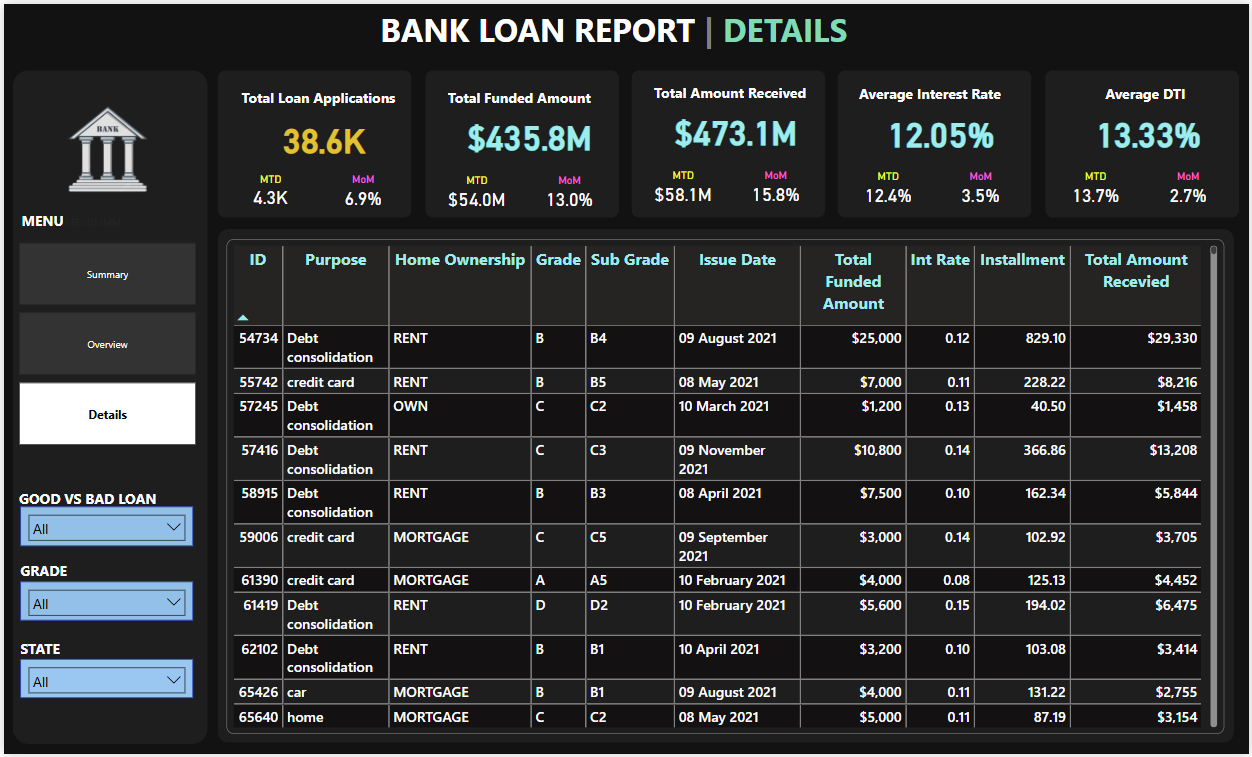

What the dashboard file says about the page in this screenshot:
{"tool":"powerbi","page":{"name":"Details","canvas":[1660,1000],"ordinal":2},"visuals":[{"type":"textbox","box":[496.7,0,798.3,76.7],"z":0},{"type":"card","fields":{"Values":["bankloan.Total Amount Recevied"]},"box":[886.9,106.2,178.3,125.8],"z":0,"group":"g5"},{"type":"card","fields":{"Values":["bankloan.Avg DTI"]},"box":[1437,106.7,178.3,125.8],"z":0,"group":"g7"},{"type":"card","fields":{"Values":["bankloan.Avg Interest Rate"]},"box":[1159.9,107.2,178.3,125.8],"z":0,"group":"g6"},{"type":"card","fields":{"Values":["bankloan.Total Funded Amount"]},"box":[611,113,178.3,125.8],"z":0,"group":"g4"},{"type":"card","fields":{"Values":["bankloan.Total Loan Application"]},"box":[345.4,115.4,160,125.2],"z":0,"group":"g3"},{"type":"slicer","fields":{"Values":["bankloan.grade"]},"box":[22.4,769.3,230.8,52.3],"z":0,"group":"g1"},{"type":"textbox","box":[862.4,101,225.4,37.7],"z":1000,"group":"g5"},{"type":"textbox","box":[1412.5,101.5,225.4,37.7],"z":1000,"group":"g7"},{"type":"textbox","box":[1135.4,102,225.4,37.7],"z":1000,"group":"g6"},{"type":"textbox","box":[311.6,107.7,225.4,37.6],"z":1000,"group":"g3"},{"type":"textbox","box":[586.5,107.8,225.4,37.7],"z":1000,"group":"g4"},{"type":"shape","box":[285,300,1355,685],"z":1000},{"type":"pageNavigator","box":[21.2,317.1,236.2,271.2],"z":1000,"group":"g1"},{"type":"shape","box":[285,88.7,258.3,196.7],"z":2000,"group":"g2"},{"type":"card","title":"MoM","fields":{"Values":["bankloan.MoM Amount Received"]},"box":[970.1,220.2,117.7,50],"z":2000,"group":"g5"},{"type":"card","title":"MoM","fields":{"Values":["bankloan.MoM DTI"]},"box":[1520.2,220.7,117.7,50],"z":2000,"group":"g7"},{"type":"card","title":"MoM","fields":{"Values":["bankloan.MoM Interest Rate"]},"box":[1243.1,221.2,117.7,50],"z":2000,"group":"g6"},{"type":"card","title":"MoM","fields":{"Values":["bankloan.MoM Loan Application"]},"box":[419.3,226.8,117.7,49.9],"z":2000,"group":"g3"},{"type":"card","title":"MoM","fields":{"Values":["bankloan.MoM Funded Amount"]},"box":[694.2,227,117.7,50],"z":2000,"group":"g4"},{"type":"tableEx","fields":{"Values":["bankloan.id","bankloan.purpose","bankloan.home_ownership","bankloan.grade","bankloan.sub_grade","bankloan.issue_date","bankloan.Total Funded Amount","Sum(bankloan.int_rate)","Sum(bankloan.installment)","bankloan.Total Amount Recevied"]},"box":[296.7,313.3,1330,660],"z":2000},{"type":"slicer","fields":{"Values":["bankloan.Good VS Bad Loan"]},"box":[22.4,670.1,230.8,53.1],"z":2000,"group":"g1"},{"type":"shape","box":[11.7,88.3,260,898.3],"z":3000},{"type":"card","title":"MTD","fields":{"Values":["bankloan.MTD Amount Received"]},"box":[847,220.2,117.7,50],"z":3000,"group":"g5"},{"type":"card","title":"MTD","fields":{"Values":["bankloan.MTD DTI"]},"box":[1397.1,220.7,117.7,50],"z":3000,"group":"g7"},{"type":"card","title":"MTD","fields":{"Values":["bankloan.MTD Interest Rate"]},"box":[1120,221.2,117.7,50],"z":3000,"group":"g6"},{"type":"card","title":"MTD","fields":{"Values":["bankloan.MTD Loan Application"]},"box":[296.2,226.8,117.7,49],"z":3000,"group":"g3"},{"type":"card","title":"MTD","fields":{"Values":["bankloan.MTD Funded Amount"]},"box":[571.1,227,117.7,50],"z":3000,"group":"g4"},{"type":"slicer","fields":{"Values":["bankloan.address_state"]},"box":[22.4,873.1,230.8,52.3],"z":3000,"group":"g1"},{"type":"group","id":"g1","title":"Group 3","box":[15.5,271,257.1,654.4],"z":4000},{"type":"textbox","box":[17.4,738,140,46],"z":4000,"group":"g1"},{"type":"shape","box":[561.7,88.7,258.3,196.7],"z":5000,"group":"g2"},{"type":"image","box":[40,113.3,196.7,160],"z":5000},{"type":"textbox","box":[15.5,640.7,257.1,45.7],"z":5000,"group":"g1"},{"type":"group","id":"g2","title":"Group 2","box":[285,88.7,1361.7,196.7],"z":6000},{"type":"shape","box":[836.7,88.7,258.3,196.7],"z":6000,"group":"g2"},{"type":"textbox","box":[17.2,841.8,140,45.7],"z":6000,"group":"g1"},{"type":"shape","box":[1111.7,88.7,258.3,196.7],"z":7000,"group":"g2"},{"type":"textbox","box":[18.7,271,203.8,40],"z":7000,"group":"g1"},{"type":"shape","box":[1388.3,88.7,258.3,196.7],"z":8000,"group":"g2"},{"type":"group","id":"g3","title":"Group 1","box":[296.2,107.7,240.8,169],"z":10000,"group":"g2"},{"type":"group","id":"g4","title":"Group 1","box":[571.1,107.8,240.8,169.2],"z":11000,"group":"g2"},{"type":"group","id":"g5","title":"Group 1","box":[847,101,241.2,170],"z":12000,"group":"g2"},{"type":"group","id":"g6","title":"Group 1","box":[1120,102,241.7,170],"z":13000,"group":"g2"},{"type":"group","id":"g7","title":"Group 1","box":[1397.1,101.5,241.4,170],"z":14000,"group":"g2"}]}

Visuals, with their boxes in screenshot pixels (x1, y1, x2, y2), scaled from the page's 1660x1000 canvas onto the 1252x757 screenshot:
textbox: bbox(375, 0, 977, 58)
card - bankloan.Total Amount Recevied: bbox(669, 80, 803, 176)
card - bankloan.Avg DTI: bbox(1084, 81, 1218, 176)
card - bankloan.Avg Interest Rate: bbox(875, 81, 1009, 176)
card - bankloan.Total Funded Amount: bbox(461, 86, 595, 181)
card - bankloan.Total Loan Application: bbox(261, 87, 381, 182)
slicer - bankloan.grade: bbox(17, 582, 191, 622)
textbox: bbox(650, 76, 820, 105)
textbox: bbox(1065, 77, 1235, 105)
textbox: bbox(856, 77, 1026, 106)
textbox: bbox(235, 82, 405, 110)
textbox: bbox(442, 82, 612, 110)
shape: bbox(215, 227, 1237, 746)
pageNavigator: bbox(16, 240, 194, 445)
shape: bbox(215, 67, 410, 216)
"MoM" card: bbox(732, 167, 820, 205)
"MoM" card: bbox(1147, 167, 1235, 205)
"MoM" card: bbox(938, 167, 1026, 205)
"MoM" card: bbox(316, 172, 405, 209)
"MoM" card: bbox(524, 172, 612, 210)
tableEx - bankloan.id x bankloan.purpose: bbox(224, 237, 1227, 737)
slicer - bankloan.Good VS Bad Loan: bbox(17, 507, 191, 547)
shape: bbox(9, 67, 205, 747)
"MTD" card: bbox(639, 167, 728, 205)
"MTD" card: bbox(1054, 167, 1142, 205)
"MTD" card: bbox(845, 167, 933, 205)
"MTD" card: bbox(223, 172, 312, 209)
"MTD" card: bbox(431, 172, 520, 210)
slicer - bankloan.address_state: bbox(17, 661, 191, 701)
"Group 3" group: bbox(12, 205, 206, 701)
textbox: bbox(13, 559, 119, 593)
shape: bbox(424, 67, 618, 216)
image: bbox(30, 86, 179, 207)
textbox: bbox(12, 485, 206, 520)
"Group 2" group: bbox(215, 67, 1242, 216)
shape: bbox(631, 67, 826, 216)
textbox: bbox(13, 637, 119, 672)
shape: bbox(838, 67, 1033, 216)
textbox: bbox(14, 205, 168, 235)
shape: bbox(1047, 67, 1242, 216)
"Group 1" group: bbox(223, 82, 405, 209)
"Group 1" group: bbox(431, 82, 612, 210)
"Group 1" group: bbox(639, 76, 821, 205)
"Group 1" group: bbox(845, 77, 1027, 206)
"Group 1" group: bbox(1054, 77, 1236, 206)
